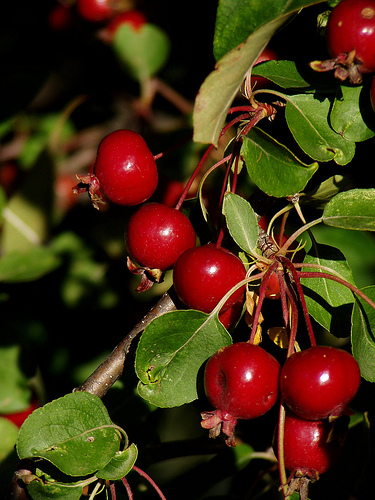apple: (279, 344, 364, 427), (200, 341, 287, 419), (82, 131, 171, 204), (167, 241, 251, 314), (120, 203, 202, 275)
